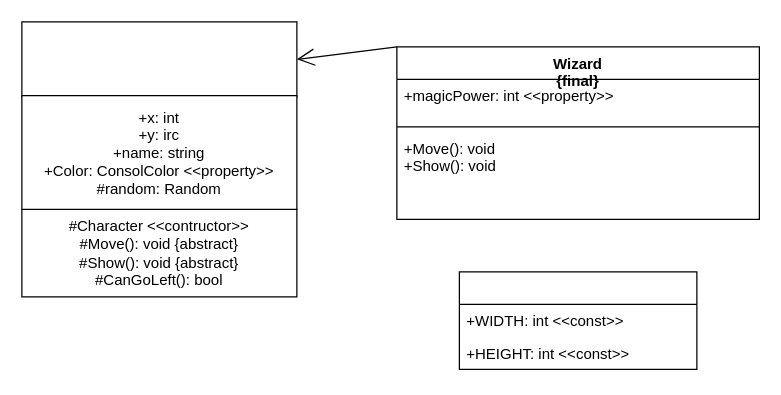
Some shapes in this 781 by 395 pixel diagram are drawn without their labels. The box of each missing label's shape, as (x1, y1, x2, y2) in pixels:
Character {abstract}: (21, 21, 297, 97)
World: (458, 271, 697, 369)
